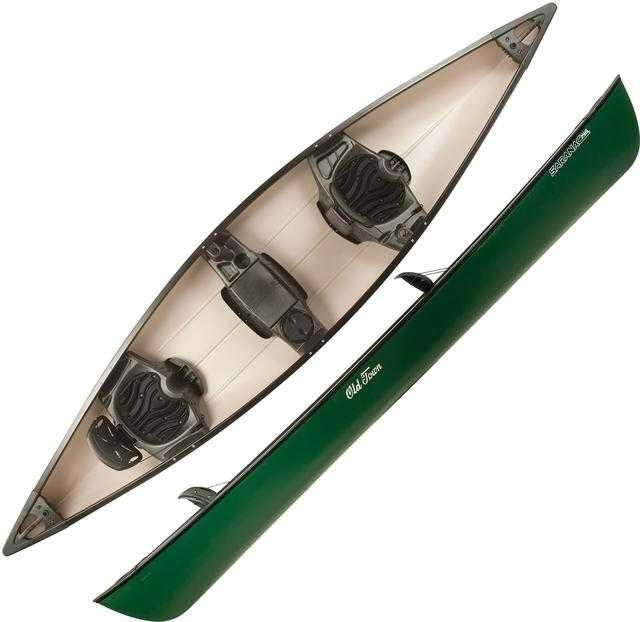kayak: (1, 11, 639, 617)
